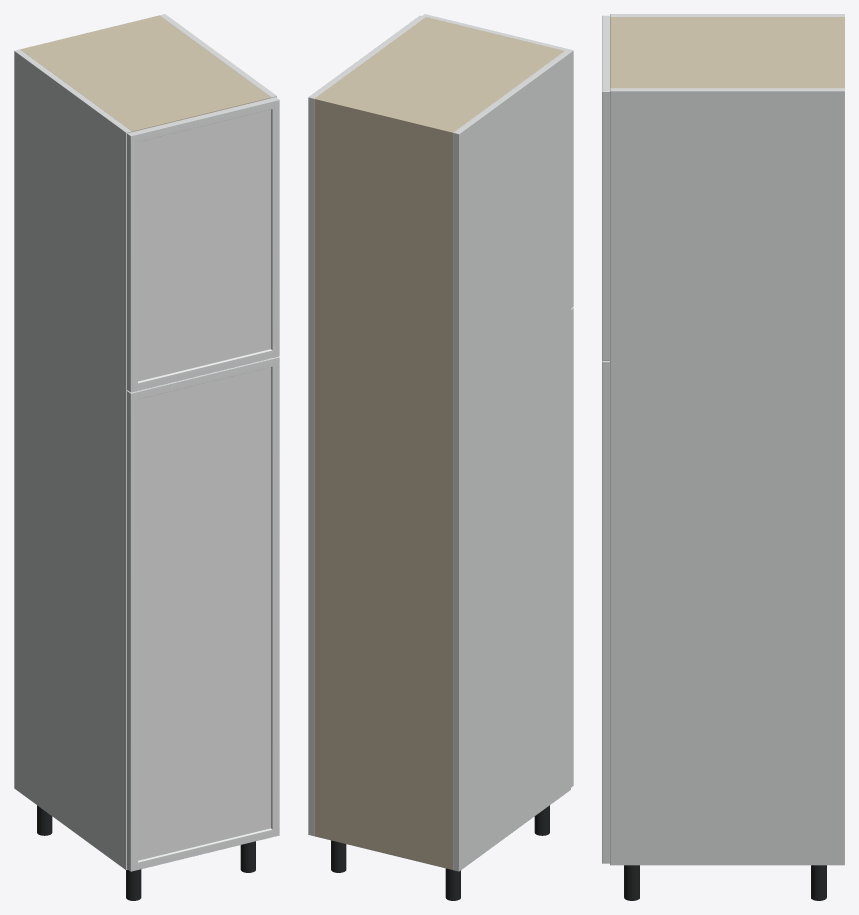
File: oppein-ply-ssw-pc1884.glb
3 renders of one model, left to right at view 1: azimuth 30°, elevation 25°; view 2: azimuth 150°, elevation 25°; view 3: azimuth 270°, elevation 25°, orthographic. The views are drawn at different scales.
Visible parts, largest first — view 1: Cabinet side, Door, Door.001, Cabinet top, Cabinet side.001; view 2: Cabinet back, Cabinet side, Cabinet top, Cabinet side.001, Door, Door.001; view 3: Cabinet side.001, Cabinet top, Door, Door.001, Cabinet side, Adjustable foot.002, Adjustable foot.003.
Part boxes in pixels (x1=…): Cabinet side: x1=14, y1=49, x2=131, y2=869; Door: x1=127, y1=356, x2=279, y2=871; Door.001: x1=127, y1=97, x2=279, y2=392; Cabinet top: x1=22, y1=17, x2=270, y2=131; Cabinet side.001: x1=159, y1=14, x2=276, y2=98; Cabinet back: x1=314, y1=97, x2=454, y2=869; Cabinet side: x1=453, y1=51, x2=570, y2=871; Cabinet top: x1=316, y1=17, x2=564, y2=137; Cabinet side.001: x1=308, y1=15, x2=425, y2=835; Door: x1=571, y1=307, x2=573, y2=787; Door.001: x1=422, y1=14, x2=573, y2=308; Cabinet side.001: x1=610, y1=88, x2=844, y2=865; Cabinet top: x1=610, y1=17, x2=840, y2=88; Door: x1=602, y1=361, x2=609, y2=863; Door.001: x1=602, y1=15, x2=609, y2=360; Cabinet side: x1=610, y1=14, x2=844, y2=16; Adjustable foot.002: x1=811, y1=865, x2=826, y2=900; Adjustable foot.003: x1=624, y1=865, x2=639, y2=900.
Bounding box in the file's own units: 0.4572 × 2.25 × 0.6064.
